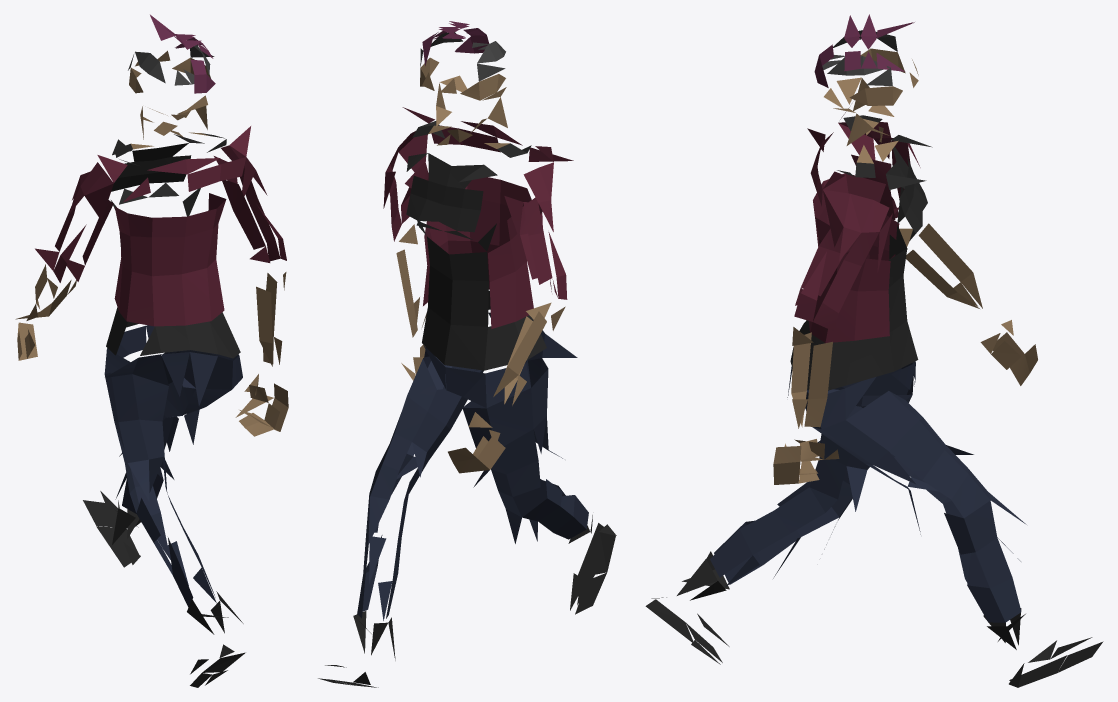
The model's file is personfar_8_w3.fbx.
3 renders of one model, left to right at view 1: azimuth 30°, elevation 25°; view 2: azimuth 150°, elevation 25°; view 3: azimuth 270°, elevation 25°, orthographic. The views are drawn at different scales.
Parts seen in each view (by area): view 1: Female; view 2: Female; view 3: Female.
Part boxes in pixels (<box>): Female: <box>15,14,288,687</box>; Female: <box>318,21,616,687</box>; Female: <box>645,14,1103,687</box>.
Bounding box in the file's own units: 0.3424 × 0.9967 × 0.6209.
